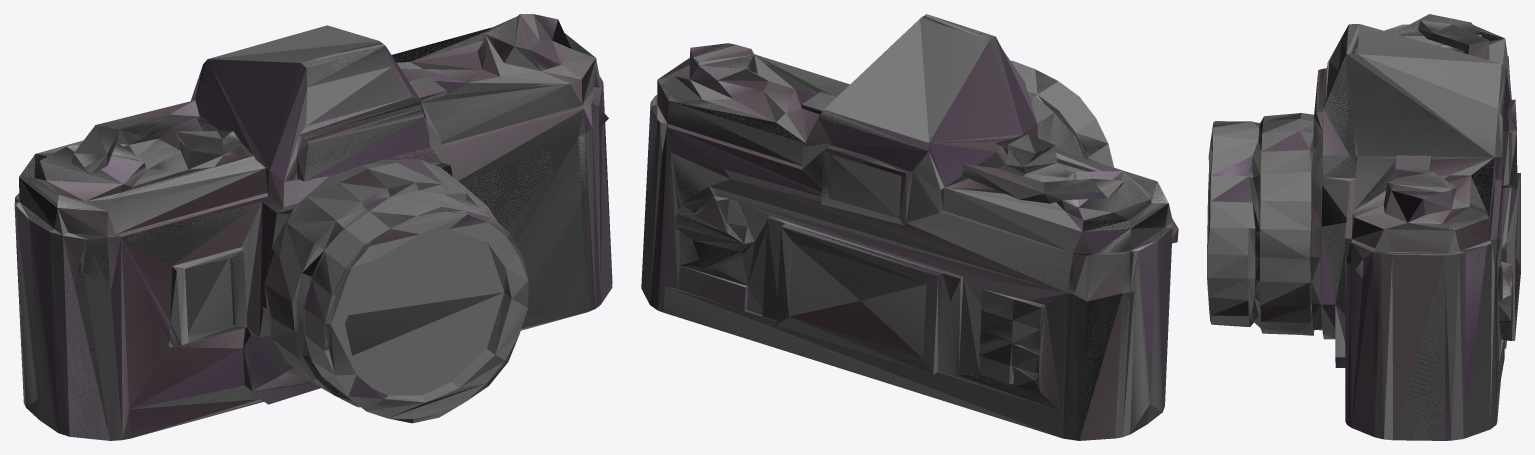
The model's file is model_align.obj.
The picture shows the model from 3 angles, left to right: view 1: azimuth 30°, elevation 25°; view 2: azimuth 150°, elevation 25°; view 3: azimuth 270°, elevation 25°; orthographic projection. The views are drawn at different scales.
Size of the model in its own units: 0.2113 by 0.1236 by 0.1161.
